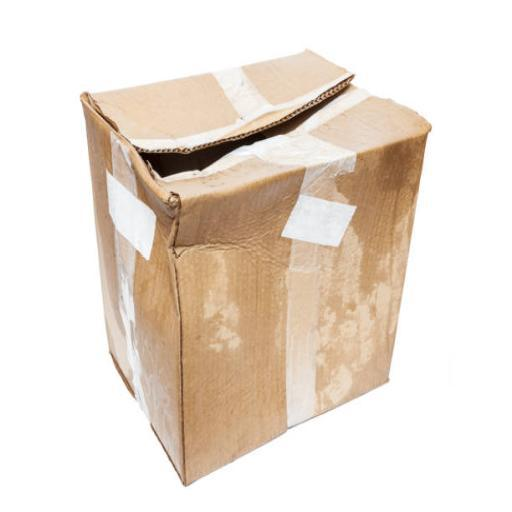dented: (76, 80, 440, 470)
